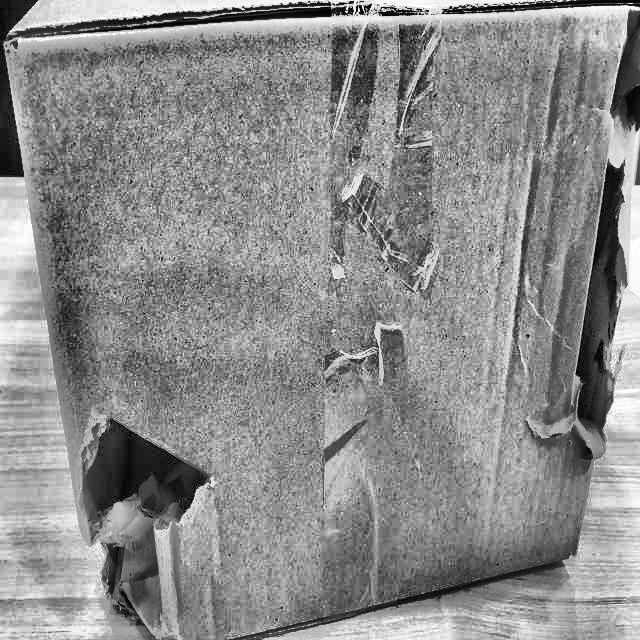box: (0, 0, 639, 639)
hole: (566, 34, 638, 456), (74, 395, 209, 615)
